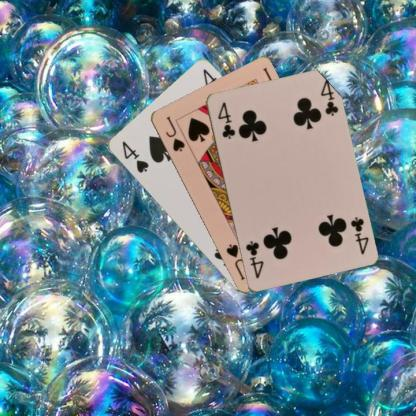4c: (347, 214, 370, 255), (214, 100, 236, 140)
4s: (119, 138, 150, 175)
Js: (162, 113, 186, 153)
